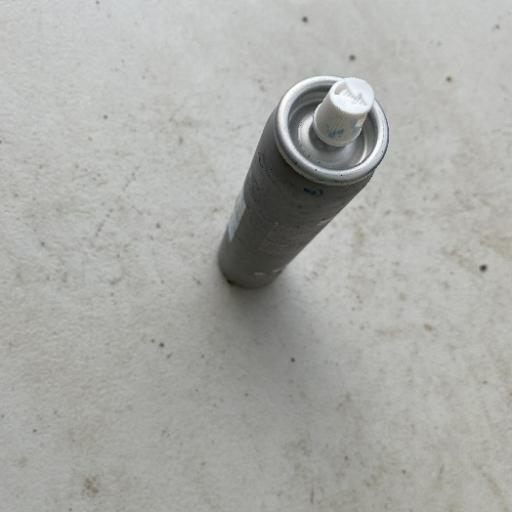Metal: (215, 72, 391, 291)
